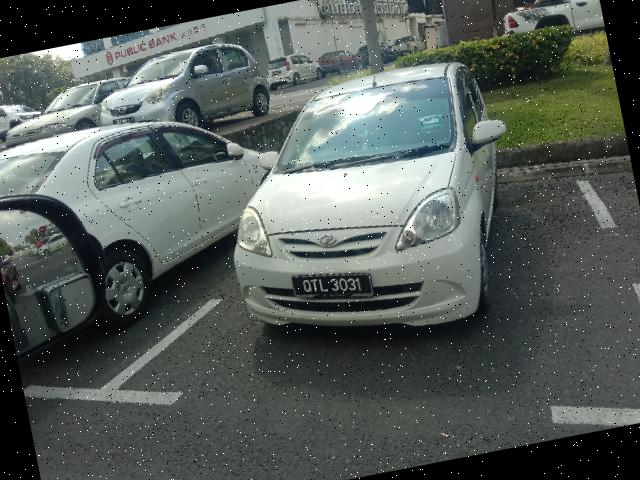License_Plate: (292, 261, 376, 312)
car: (192, 44, 554, 372), (1, 89, 321, 354), (90, 29, 279, 148)
